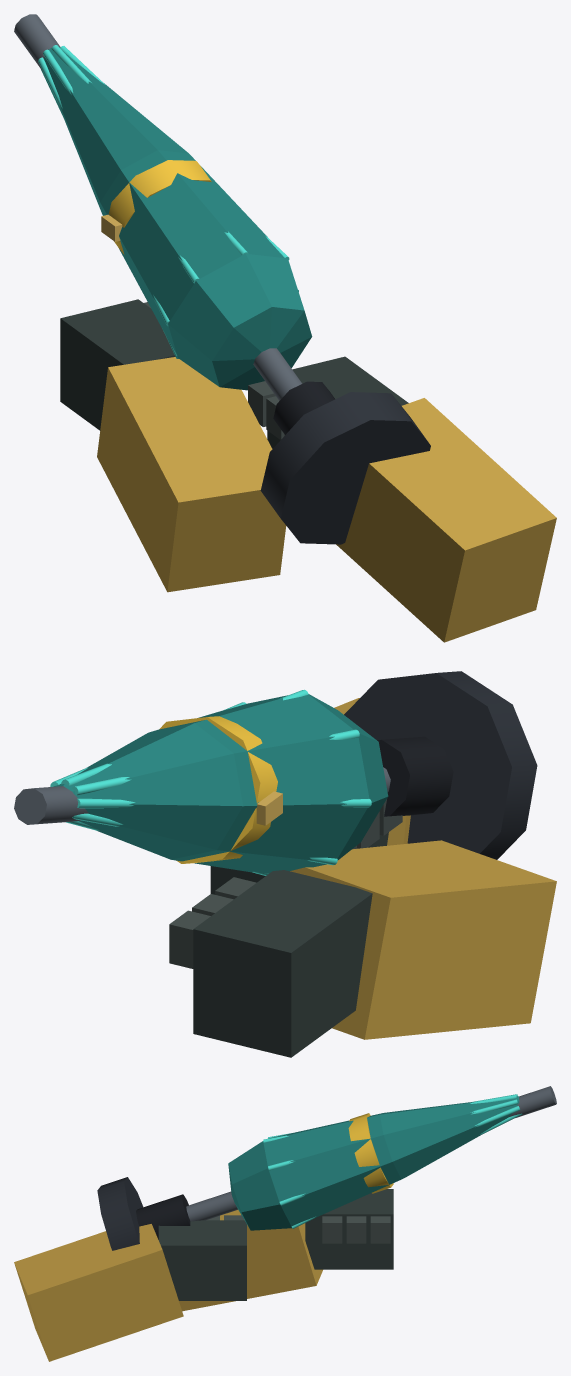
The model's file is umbrella.glb.
The picture shows the model from 3 angles, top to bottom: view 1: azimuth 30°, elevation 25°; view 2: azimuth 150°, elevation 25°; view 3: azimuth 270°, elevation 25°; orthographic projection. The views are drawn at different scales.
Parts seen in each view (by area): view 1: _MeshInstance3D_3987, _MeshInstance3D_4003, _MeshInstance3D_4009, _MeshInstance3D_3989, _MeshInstance3D_4002, _MeshInstance3D_3988, _MeshInstance3D_4008, _MeshInstance3D_3990, _MeshInstance3D_3999, _MeshInstance3D_4010; view 2: _MeshInstance3D_3987, _MeshInstance3D_4003, _MeshInstance3D_4002, _MeshInstance3D_3989, _MeshInstance3D_3999, _MeshInstance3D_3990, _MeshInstance3D_3988, _MeshInstance3D_4004, _MeshInstance3D_4008, _MeshInstance3D_3995, _MeshInstance3D_3994, _MeshInstance3D_4000 (+5 smaller); view 3: _MeshInstance3D_3987, _MeshInstance3D_4009, _MeshInstance3D_4008, _MeshInstance3D_4003, _MeshInstance3D_4002, _MeshInstance3D_3989, _MeshInstance3D_3988, _MeshInstance3D_3999, _MeshInstance3D_3990, _MeshInstance3D_4004, _MeshInstance3D_4005, _MeshInstance3D_4006 (+2 smaller).
Boxes of the visible parts, x1,y1,x2,y2 form: _MeshInstance3D_3987: (44,47,312,390); _MeshInstance3D_4003: (97,357,286,592); _MeshInstance3D_4009: (336,398,556,642); _MeshInstance3D_3989: (260,392,430,544); _MeshInstance3D_4002: (60,299,175,430); _MeshInstance3D_3988: (14,14,302,400); _MeshInstance3D_4008: (267,356,408,448); _MeshInstance3D_3990: (109,160,211,254); _MeshInstance3D_3999: (273,381,334,434); _MeshInstance3D_4010: (248,381,275,426); _MeshInstance3D_3987: (54,694,388,873); _MeshInstance3D_4003: (290,840,556,1039); _MeshInstance3D_4002: (193,870,372,1057); _MeshInstance3D_3989: (344,671,537,859); _MeshInstance3D_3999: (377,736,453,816); _MeshInstance3D_3990: (159,716,277,863); _MeshInstance3D_3988: (14,767,390,824); _MeshInstance3D_4004: (169,910,210,968); _MeshInstance3D_4008: (210,832,388,894); _MeshInstance3D_3995: (77,798,371,808); _MeshInstance3D_3994: (71,729,359,795); _MeshInstance3D_4000: (256,791,282,825); _MeshInstance3D_3987: (228,1096,519,1230); _MeshInstance3D_4009: (14,1224,183,1361); _MeshInstance3D_4008: (158,1220,246,1300); _MeshInstance3D_4003: (179,1210,322,1311); _MeshInstance3D_4002: (305,1189,393,1269); _MeshInstance3D_3989: (97,1177,143,1250); _MeshInstance3D_3988: (186,1086,556,1221); _MeshInstance3D_3999: (136,1194,190,1239); _MeshInstance3D_3990: (348,1113,393,1193); _MeshInstance3D_4004: (370,1216,390,1243); _MeshInstance3D_4005: (346,1216,366,1243); _MeshInstance3D_4006: (322,1216,342,1243).
Bounding box in the file's own units: 0.1445 × 0.1808 × 0.3815.
